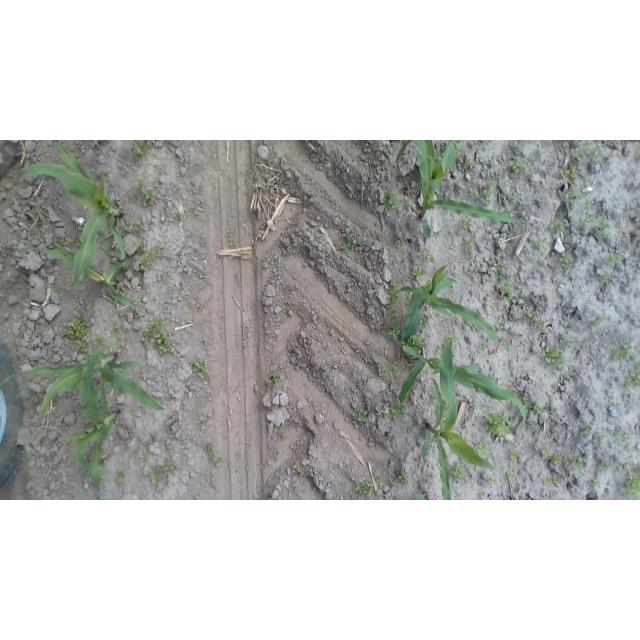Maize: (22, 142, 127, 295), (419, 340, 502, 500), (2, 345, 166, 424), (394, 141, 518, 238), (398, 340, 531, 429), (59, 337, 119, 500), (393, 264, 500, 352), (17, 237, 140, 306), (409, 492, 434, 500)
Weeds: (61, 311, 91, 353), (144, 315, 172, 355), (137, 244, 164, 271), (483, 411, 510, 437), (541, 345, 565, 369), (334, 235, 363, 253), (623, 470, 640, 499), (131, 140, 150, 164), (385, 278, 401, 305), (498, 277, 515, 301), (206, 443, 223, 467), (612, 342, 633, 361), (380, 190, 399, 210), (541, 449, 563, 466), (509, 157, 529, 175), (191, 359, 208, 380), (596, 222, 610, 245), (624, 368, 640, 388), (405, 335, 426, 350), (607, 248, 624, 266), (149, 465, 166, 483), (530, 318, 549, 334), (355, 481, 373, 497), (548, 217, 565, 233), (474, 439, 492, 454), (381, 361, 401, 374), (566, 188, 581, 205), (391, 471, 409, 485), (101, 243, 116, 259), (163, 458, 177, 475), (577, 214, 595, 227), (389, 405, 404, 420), (591, 312, 605, 328), (561, 253, 574, 270), (482, 186, 494, 204), (587, 147, 601, 162), (532, 236, 547, 250), (446, 331, 460, 346), (127, 219, 143, 232), (453, 462, 466, 478), (412, 266, 426, 280), (459, 218, 472, 233), (268, 449, 281, 464), (268, 371, 281, 385), (565, 166, 578, 180), (526, 306, 539, 320), (572, 457, 584, 472), (358, 408, 370, 423), (133, 182, 145, 197), (418, 251, 434, 262), (493, 260, 506, 273), (618, 430, 631, 443), (144, 188, 156, 202), (115, 471, 126, 486), (463, 237, 473, 253), (574, 147, 585, 161), (175, 210, 186, 224), (533, 401, 543, 416), (388, 327, 400, 339), (544, 477, 560, 486), (509, 450, 521, 462), (226, 228, 234, 246), (580, 423, 593, 434), (411, 491, 428, 499), (598, 461, 610, 472), (465, 158, 476, 170), (292, 460, 302, 473), (499, 206, 512, 216), (523, 401, 533, 414), (365, 326, 378, 336), (71, 232, 80, 246), (507, 469, 516, 483), (599, 430, 610, 441), (373, 471, 384, 482), (276, 431, 288, 441), (110, 324, 120, 335), (387, 309, 397, 320), (584, 199, 594, 210), (441, 315, 452, 325), (453, 140, 464, 150), (436, 343, 445, 355), (94, 170, 106, 179), (521, 140, 534, 148), (455, 147, 465, 157), (94, 334, 103, 345), (521, 218, 530, 229), (420, 318, 429, 329), (495, 323, 506, 332), (270, 261, 281, 270), (481, 141, 494, 148), (470, 188, 479, 198), (141, 452, 150, 462), (620, 461, 629, 471), (489, 474, 498, 484), (395, 239, 405, 248), (443, 400, 449, 415), (145, 438, 152, 450), (603, 274, 612, 283), (430, 472, 439, 481), (282, 304, 291, 313), (500, 336, 508, 346), (634, 150, 640, 163), (583, 141, 594, 148), (569, 339, 577, 348), (591, 478, 600, 486), (131, 447, 139, 456), (582, 252, 590, 261), (544, 430, 553, 438), (401, 275, 409, 284), (374, 288, 380, 299), (431, 393, 437, 404), (440, 152, 445, 165), (511, 194, 519, 202), (566, 325, 574, 333), (162, 272, 170, 280), (522, 392, 530, 400), (528, 353, 535, 362)
